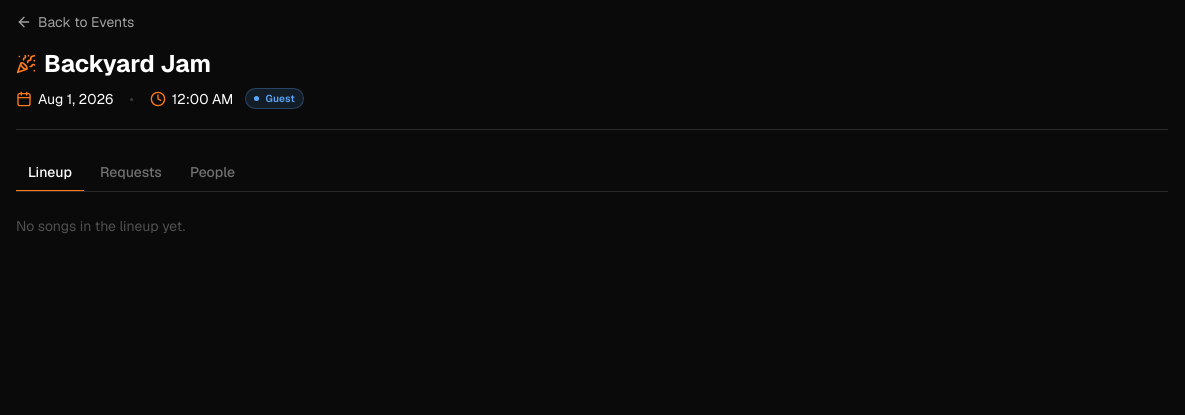
it: EventDetailPage — People tab remove / leave (I) › shows a Leave action for a non-host current user (guest view)
Click the button with test id "event-tab-people": (212, 173) x1=178 y1=154 x2=247 y2=192
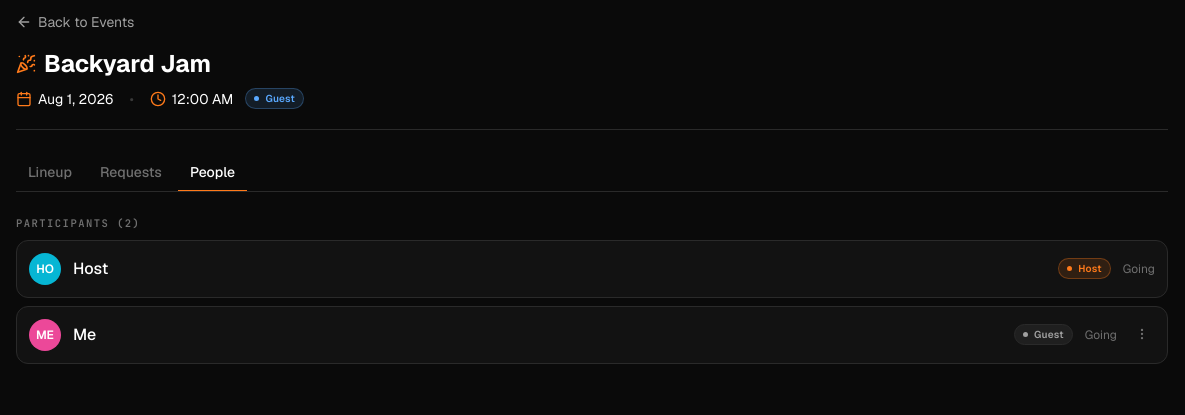
Click the button with test id "event-person-actions-me": (1142, 334) x1=1129 y1=321 x2=1155 y2=347
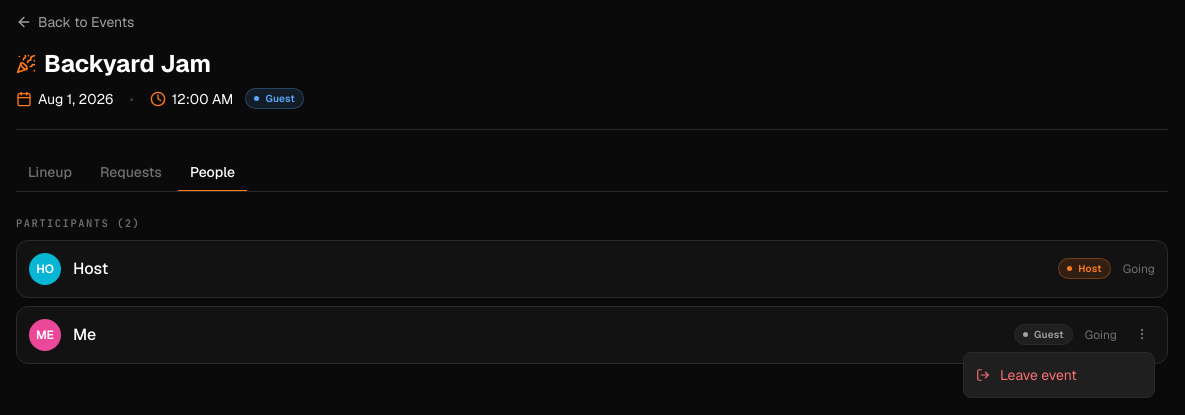
Result: the menu item with test id "event-person-leave-me" is shown at x1=964 y1=357 x2=1154 y2=393
